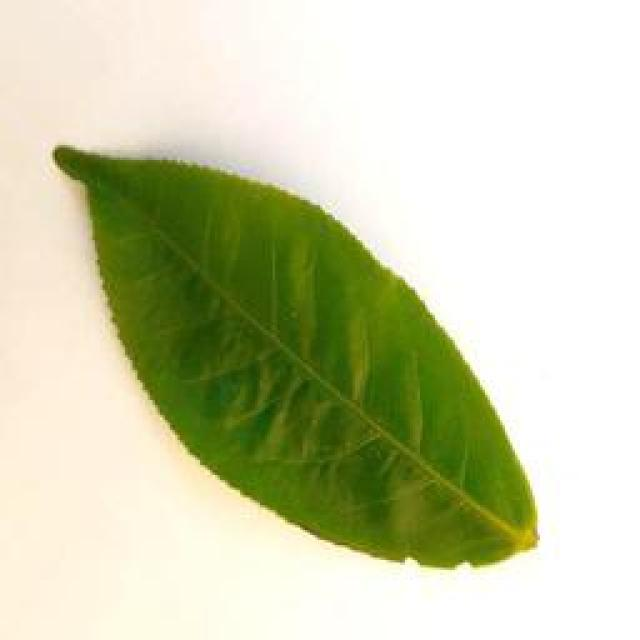Healthy: (48, 143, 534, 572)
